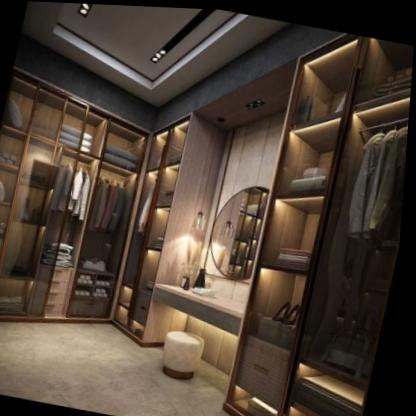Transparent Closet: (229, 32, 414, 416), (117, 111, 285, 372), (0, 76, 147, 318)
